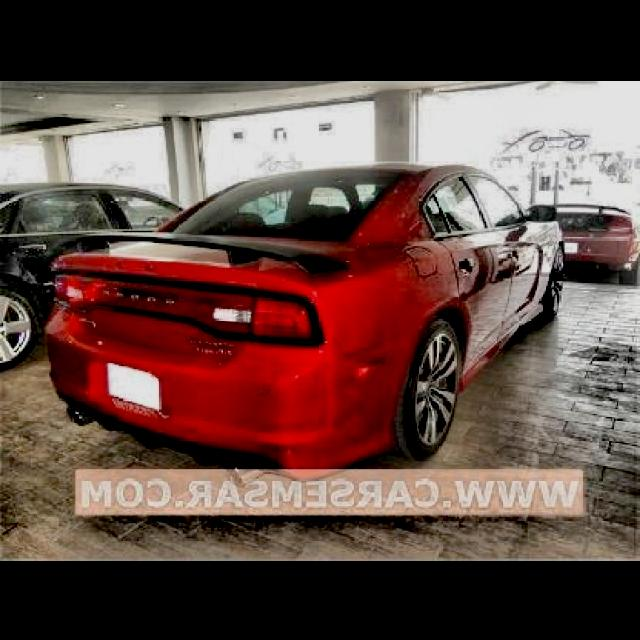maroon: (50, 158, 561, 478)
